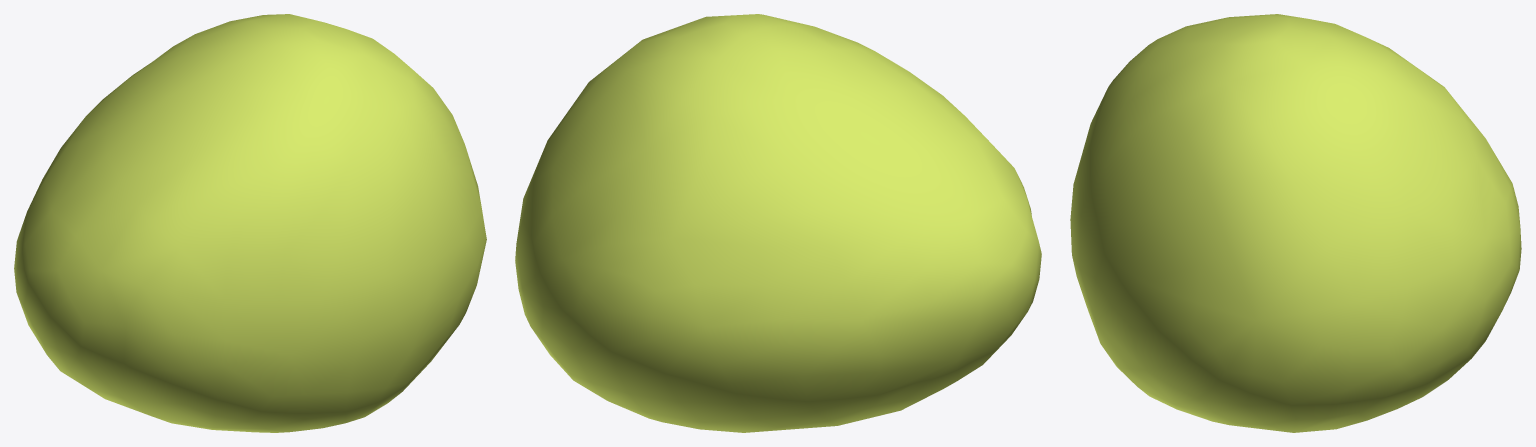
The model's file is Bush_B.fbx.
3 views of the same model, side by side, from view 1: azimuth 30°, elevation 25°; view 2: azimuth 150°, elevation 25°; view 3: azimuth 270°, elevation 25° (orthographic). The views are drawn at different scales.
Visible parts, largest first — view 1: Bush_f_m_05; view 2: Bush_f_m_05; view 3: Bush_f_m_05.
Boxes of the visible parts, x1,y1,x2,y2 form: Bush_f_m_05: [14, 14, 486, 432]; Bush_f_m_05: [515, 14, 1041, 432]; Bush_f_m_05: [1070, 14, 1521, 432].
Bounding box in the file's own units: 182 × 142 × 155.
